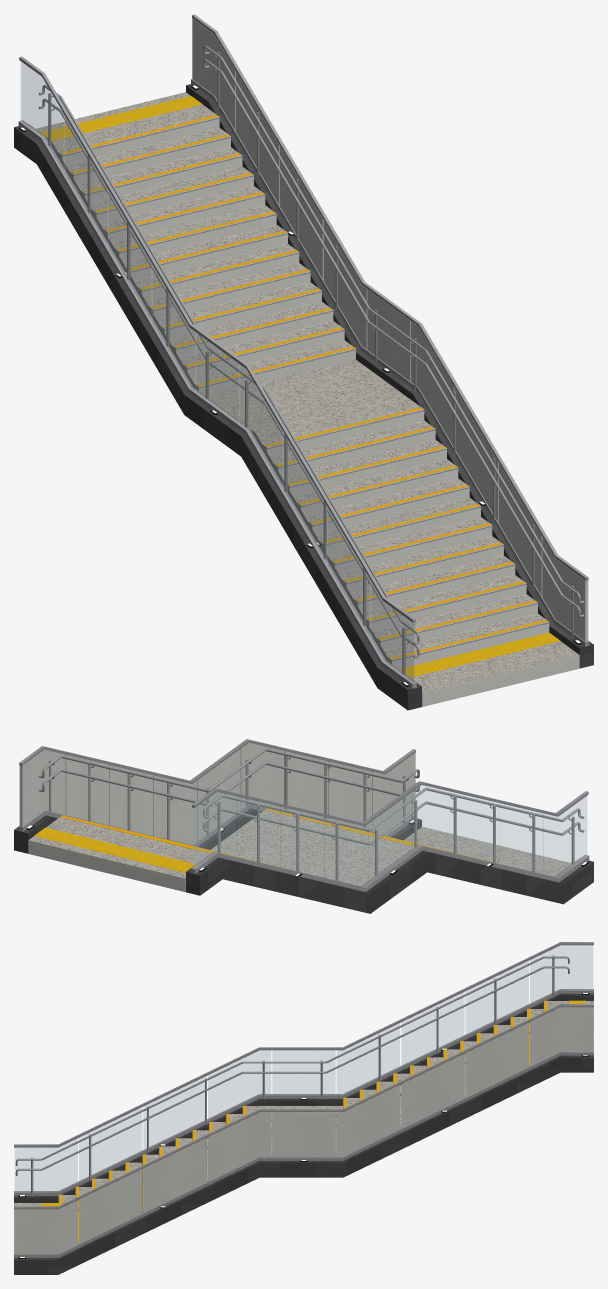
File: gteki_stairs_landing_w2400_r4000.glb
The picture shows the model from 3 angles, top to bottom: view 1: azimuth 30°, elevation 25°; view 2: azimuth 150°, elevation 25°; view 3: azimuth 270°, elevation 25°; orthographic projection. The views are drawn at different scales.
Visible parts, largest first — view 1: VIS_balustrades, VIS_stair_structure, VIS_treads, VIS_stringers, VIS_nosings, VIS_landings, VIS_handrails, VIS_guard_shoes, VIS_guard_caps, VIS_rail_supports, VIS_tactile; view 2: VIS_balustrades, VIS_landings, VIS_stringers, VIS_handrails, VIS_rail_supports, VIS_guard_shoes, VIS_guard_caps, VIS_treads, VIS_tactile, VIS_nosings; view 3: VIS_balustrades, VIS_stringers, VIS_guard_shoes, VIS_guard_caps, VIS_handrails, VIS_treads, VIS_nosings, VIS_rail_supports, VIS_landings.
Part boxes in pixels (box(x1,y1,x2,y2)): VIS_balustrades: box(21, 18, 588, 682); VIS_stair_structure: box(59, 117, 549, 668); VIS_treads: box(55, 108, 548, 659); VIS_stringers: box(14, 84, 593, 710); VIS_nosings: box(61, 115, 549, 661); VIS_landings: box(36, 92, 579, 706); VIS_handrails: box(39, 45, 584, 658); VIS_guard_shoes: box(18, 79, 589, 688); VIS_guard_caps: box(19, 14, 588, 622); VIS_rail_supports: box(48, 52, 573, 674); VIS_tactile: box(41, 96, 560, 677); VIS_balustrades: box(19, 743, 586, 886); VIS_landings: box(28, 818, 571, 892); VIS_stringers: box(14, 808, 593, 913); VIS_handrails: box(38, 748, 584, 845); VIS_rail_supports: box(49, 755, 574, 880); VIS_guard_shoes: box(18, 804, 589, 891); VIS_guard_caps: box(19, 739, 588, 826); VIS_treads: box(51, 810, 414, 860); VIS_tactile: box(34, 827, 501, 872); VIS_nosings: box(61, 808, 471, 867); VIS_balustrades: box(14, 945, 593, 1254); VIS_stringers: box(14, 994, 593, 1274); VIS_guard_shoes: box(14, 989, 593, 1257); VIS_guard_caps: box(14, 942, 593, 1209); VIS_handrails: box(15, 956, 569, 1210); VIS_treads: box(58, 1001, 560, 1243); VIS_nosings: box(59, 1000, 547, 1242); VIS_rail_supports: box(31, 955, 554, 1196); VIS_landings: box(14, 1001, 593, 1252).
Size of what is drawn, in the model's own units: 2.84 by 5.3 by 10.4.
10 materials, 5 textured.
